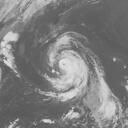cyclone: (31, 28, 123, 127)
